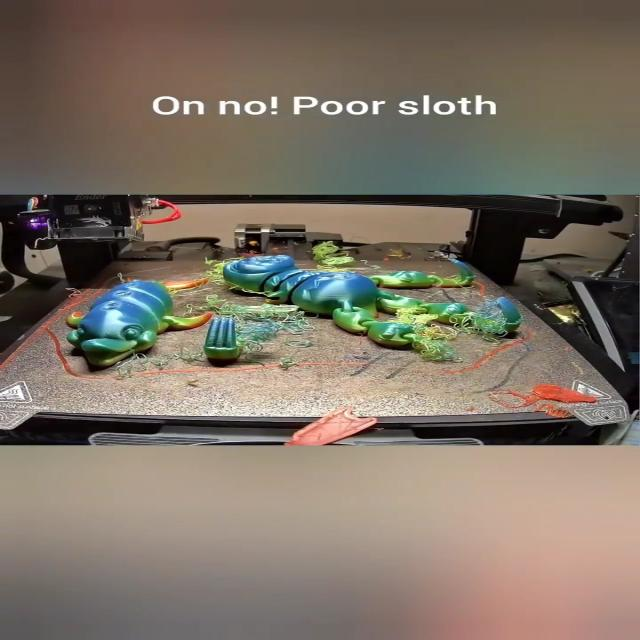spaghetti: (364, 304, 517, 364), (202, 302, 310, 364), (308, 238, 359, 268)
